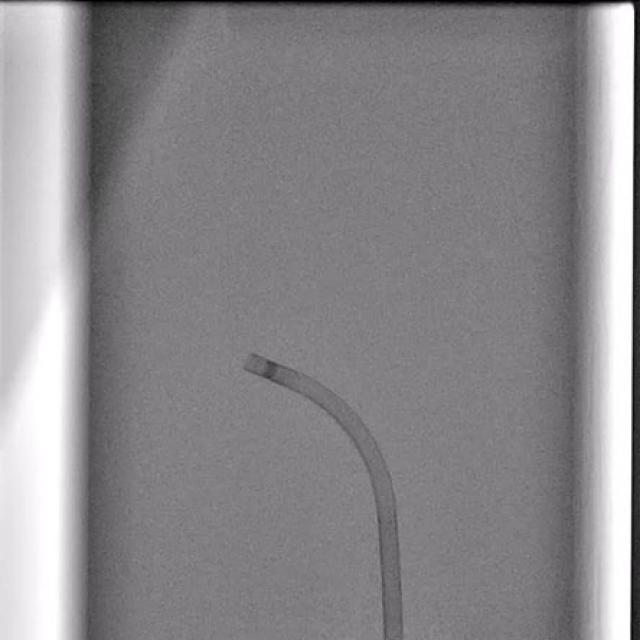bend: (376, 508, 397, 520)
entry: (384, 628, 402, 640)
marker: (262, 360, 280, 379)
tip: (246, 355, 259, 374)
